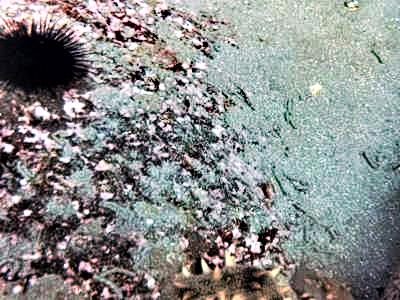urchin: (2, 14, 100, 104)
